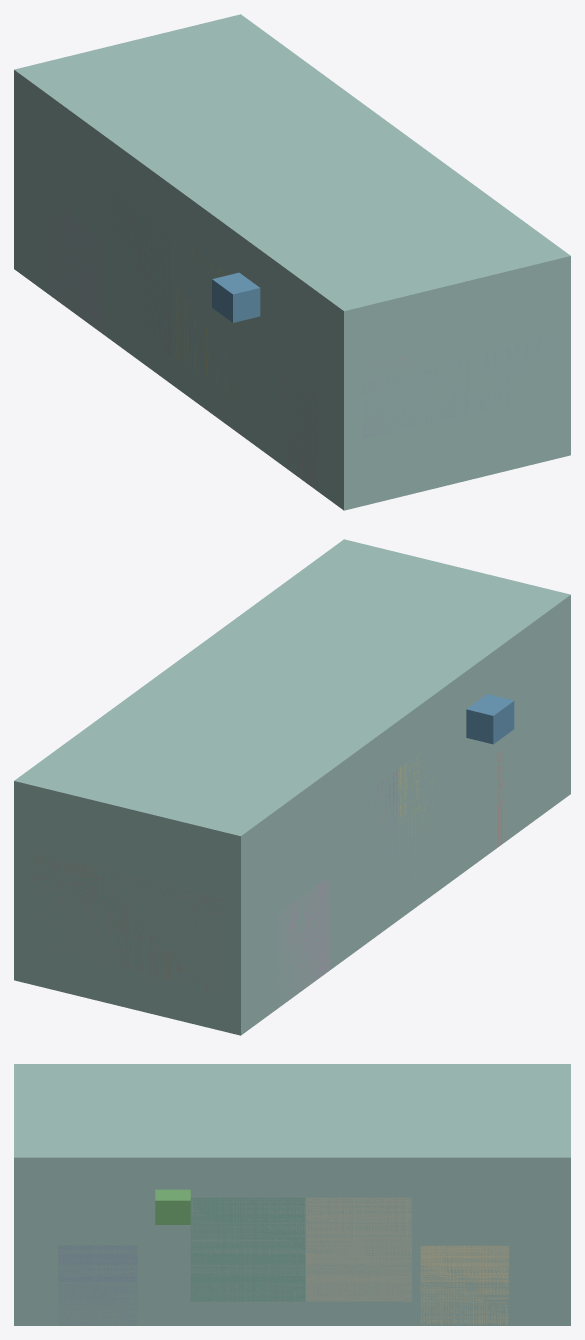
Rendered from car_bbox.glb.
The picture shows the model from 3 angles, top to bottom: view 1: azimuth 30°, elevation 25°; view 2: azimuth 150°, elevation 25°; view 3: azimuth 270°, elevation 25°; orthographic projection. The views are drawn at different scales.
Visible parts, largest first — view 1: world; view 2: world; view 3: world.
Boxes of the visible parts, bbox=[...] form: world: bbox=[14, 14, 570, 510]; world: bbox=[14, 539, 570, 1035]; world: bbox=[14, 1064, 570, 1325].
Size of the model in its own units: 0.4921 by 0.3333 by 1.
